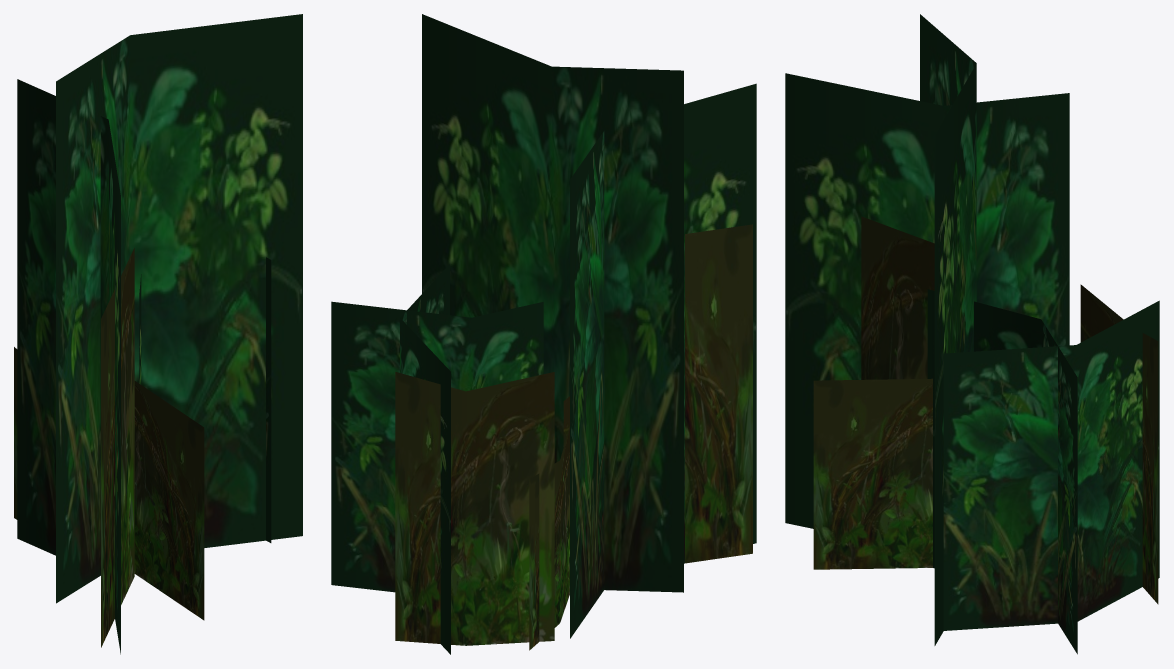
The model's file is bush_b.fbx.
The picture shows the model from 3 angles, left to right: view 1: azimuth 30°, elevation 25°; view 2: azimuth 150°, elevation 25°; view 3: azimuth 270°, elevation 25°; orthographic projection. The views are drawn at different scales.
Visible parts, largest first — view 1: plant_plane01, plant_plane00, plant_plane03, plant_plane02, plant_plane07, plant_plane06; view 2: plant_plane01, plant_plane05, plant_plane00, plant_plane04, plant_plane02, plant_plane07, plant_plane06; view 3: plant_plane00, plant_plane07, plant_plane03, plant_plane01, plant_plane02, plant_plane04, plant_plane05.
Part boxes in pixels (left/top/right/bottom): plant_plane01: left=56, top=14, right=302, bottom=603; plant_plane00: left=17, top=79, right=120, bottom=654; plant_plane03: left=134, top=381, right=204, bottom=620; plant_plane02: left=101, top=248, right=134, bottom=647; plant_plane07: left=266, top=257, right=271, bottom=542; plant_plane06: left=14, top=347, right=17, bottom=519; plant_plane01: left=422, top=14, right=683, bottom=592; plant_plane05: left=395, top=372, right=554, bottom=645; plant_plane00: left=570, top=83, right=756, bottom=638; plant_plane04: left=331, top=301, right=543, bottom=592; plant_plane02: left=685, top=224, right=752, bottom=563; plant_plane07: left=400, top=264, right=450, bottom=654; plant_plane06: left=529, top=426, right=569, bottom=650; plant_plane00: left=785, top=73, right=1069, bottom=528; plant_plane07: left=943, top=300, right=1159, bottom=630; plant_plane03: left=813, top=378, right=932, bottom=569; plant_plane01: left=920, top=14, right=976, bottom=645; plant_plane02: left=861, top=216, right=934, bottom=379; plant_plane04: left=927, top=289, right=1077, bottom=654; plant_plane05: left=1080, top=284, right=1158, bottom=604.
Size of the model in its own units: 581 by 1020 by 677.
Materials: 1 (1 with a texture image).
